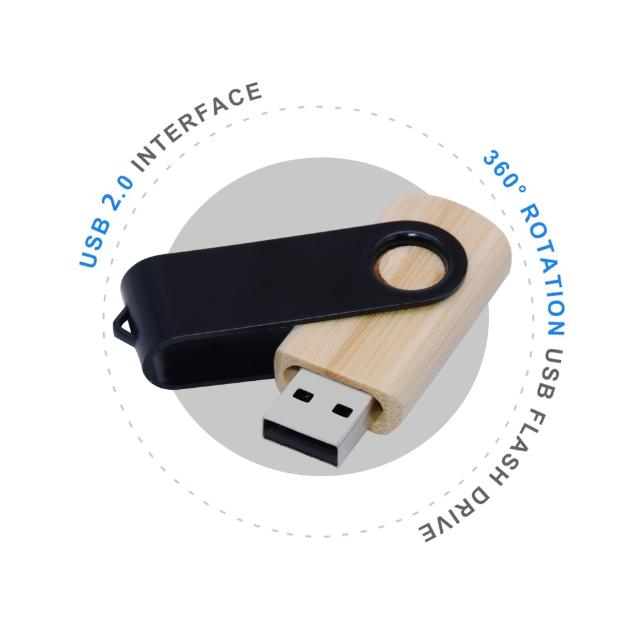USB-Flash-Drive: (262, 195, 511, 468)
